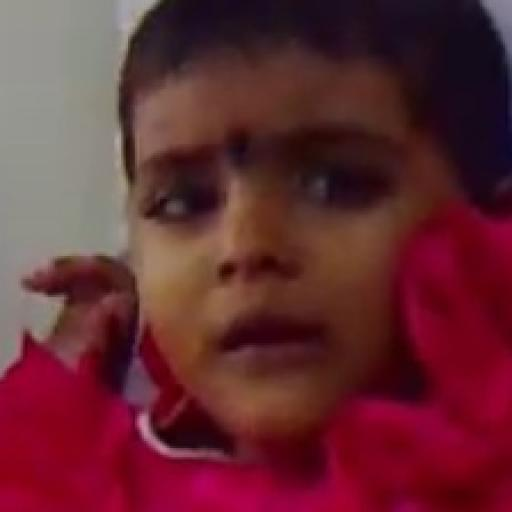Autism: (103, 47, 483, 460)
